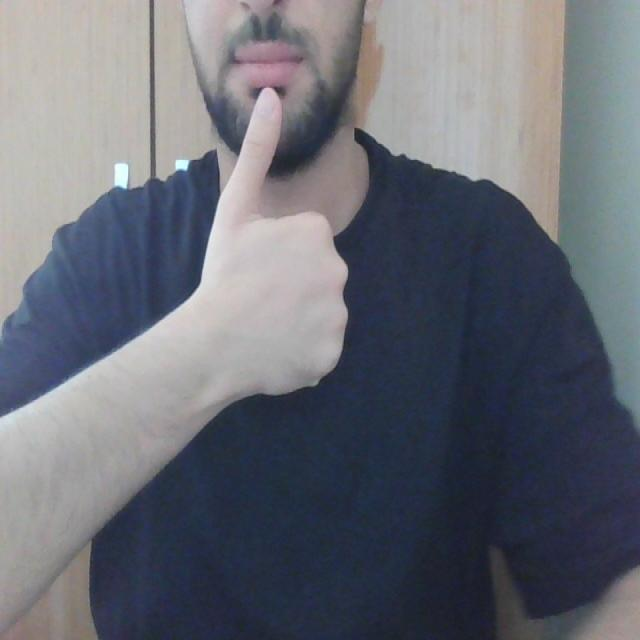Baba: (212, 19, 315, 196)
